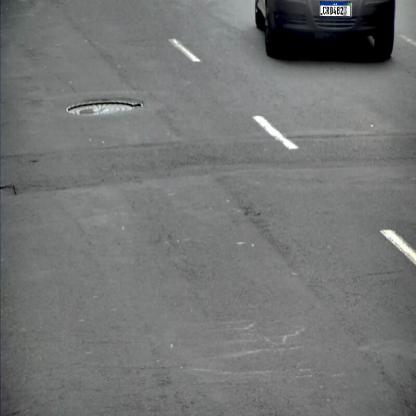PlacaM: (320, 1, 350, 17)
